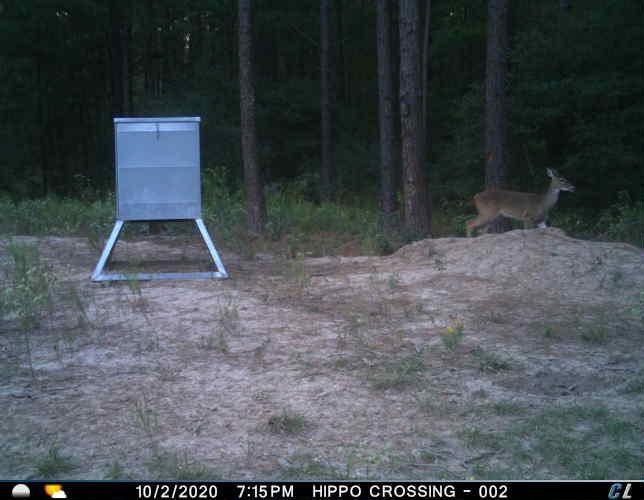Deer: (465, 164, 573, 240)
